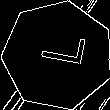L_W: (29, 36, 85, 75)
